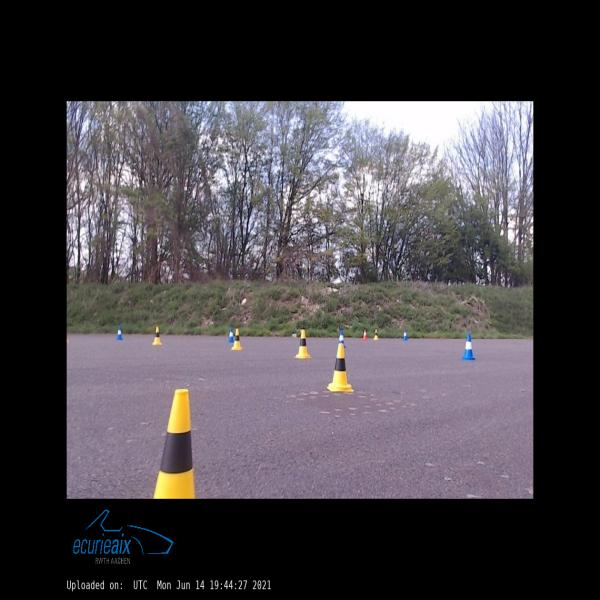blue_cone: (462, 334, 475, 360), (116, 325, 123, 340), (340, 330, 346, 347), (228, 329, 234, 342), (403, 329, 408, 340)
orange_cone: (362, 329, 368, 339)
yellow_cone: (154, 389, 195, 498), (327, 343, 354, 391), (293, 330, 311, 358), (231, 328, 242, 349), (152, 327, 162, 345), (373, 328, 379, 340)
